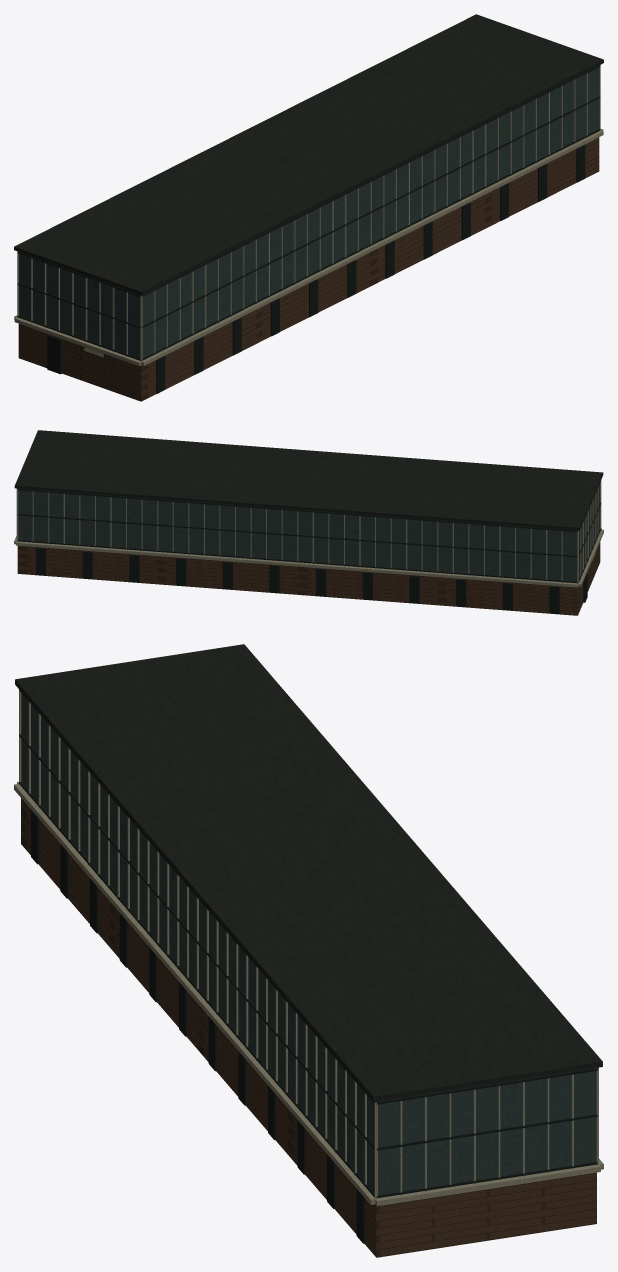
The picture shows the model from 3 angles, top to bottom: view 1: azimuth 30°, elevation 25°; view 2: azimuth 150°, elevation 25°; view 3: azimuth 270°, elevation 25°; orthographic projection. The views are drawn at different scales.
Parts seen in each view (by area): view 1: gemeentelijke-vischhal-bagijnenstraat-2, gemeentelijke-vischhal-bagijnenstraat-1, gemeentelijke-vischhal-bagijnenstraat-0, gemeentelijke-vischhal-bagijnenstraat-3, gemeentelijke-vischhal-bagijnenstraat-4; view 2: gemeentelijke-vischhal-bagijnenstraat-2, gemeentelijke-vischhal-bagijnenstraat-1, gemeentelijke-vischhal-bagijnenstraat-0, gemeentelijke-vischhal-bagijnenstraat-4, gemeentelijke-vischhal-bagijnenstraat-3; view 3: gemeentelijke-vischhal-bagijnenstraat-2, gemeentelijke-vischhal-bagijnenstraat-1, gemeentelijke-vischhal-bagijnenstraat-0, gemeentelijke-vischhal-bagijnenstraat-3, gemeentelijke-vischhal-bagijnenstraat-4.
Boxes of the visible parts, bbox=[...] form: gemeentelijke-vischhal-bagijnenstraat-2: bbox=[14, 14, 603, 295]; gemeentelijke-vischhal-bagijnenstraat-1: bbox=[19, 67, 598, 358]; gemeentelijke-vischhal-bagijnenstraat-0: bbox=[18, 137, 599, 401]; gemeentelijke-vischhal-bagijnenstraat-3: bbox=[14, 65, 603, 366]; gemeentelijke-vischhal-bagijnenstraat-4: bbox=[17, 65, 600, 393]; gemeentelijke-vischhal-bagijnenstraat-2: bbox=[14, 430, 603, 530]; gemeentelijke-vischhal-bagijnenstraat-1: bbox=[18, 483, 599, 581]; gemeentelijke-vischhal-bagijnenstraat-0: bbox=[17, 542, 600, 615]; gemeentelijke-vischhal-bagijnenstraat-4: bbox=[17, 488, 601, 614]; gemeentelijke-vischhal-bagijnenstraat-3: bbox=[14, 480, 603, 587]; gemeentelijke-vischhal-bagijnenstraat-2: bbox=[15, 644, 602, 1101]; gemeentelijke-vischhal-bagijnenstraat-1: bbox=[21, 693, 596, 1195]; gemeentelijke-vischhal-bagijnenstraat-0: bbox=[21, 798, 596, 1257]; gemeentelijke-vischhal-bagijnenstraat-3: bbox=[14, 690, 603, 1206]; gemeentelijke-vischhal-bagijnenstraat-4: bbox=[19, 689, 598, 1243].
Size of the model in its own units: 57.17 by 9.6 by 31.42.
Materials: 5 (5 with a texture image).
